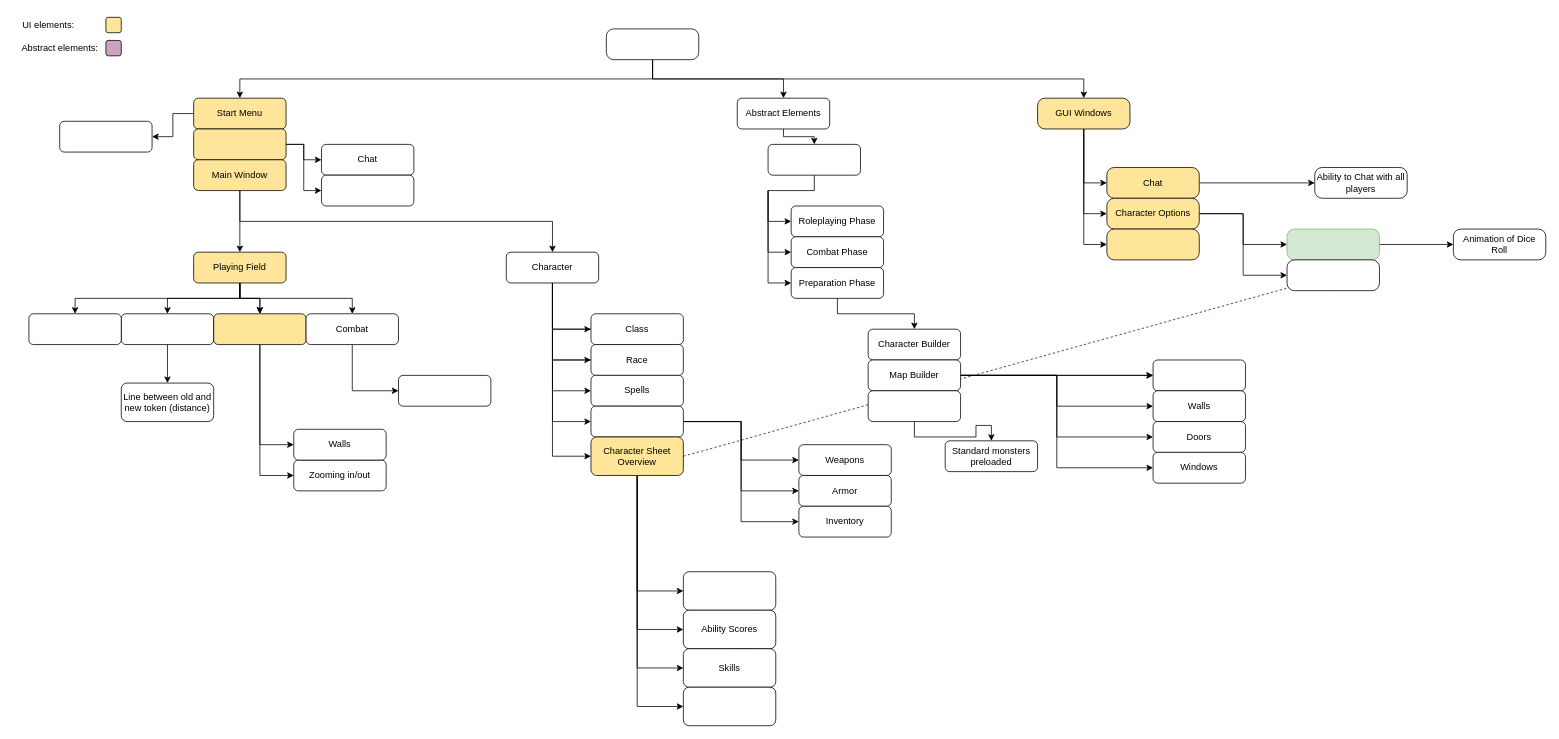
This 1559x739 diagram has some shape labels left out. The centre of each missing label's shape, as x and y in pixels:
Ability to Open Character Sheet: (x=1332, y=275)
Ability to Roll Dice: (x=1332, y=244)
Class Features: (x=729, y=706)
DM Options: (x=1152, y=244)
Game Elements: (x=652, y=44)
Hitpoint Alteration: (x=444, y=390)
Items: (x=636, y=421)
Map: (x=259, y=329)
Movement: (x=167, y=329)
NPC Builder: (x=914, y=406)
Online Gameplay: (x=239, y=144)
Saving Throws: (x=729, y=590)
Switching Phases: (x=813, y=159)
Terrains: (x=1198, y=375)
Tutorial: (x=105, y=136)
Vision Mechanics: (x=74, y=329)
Voice Chat: (x=367, y=190)
